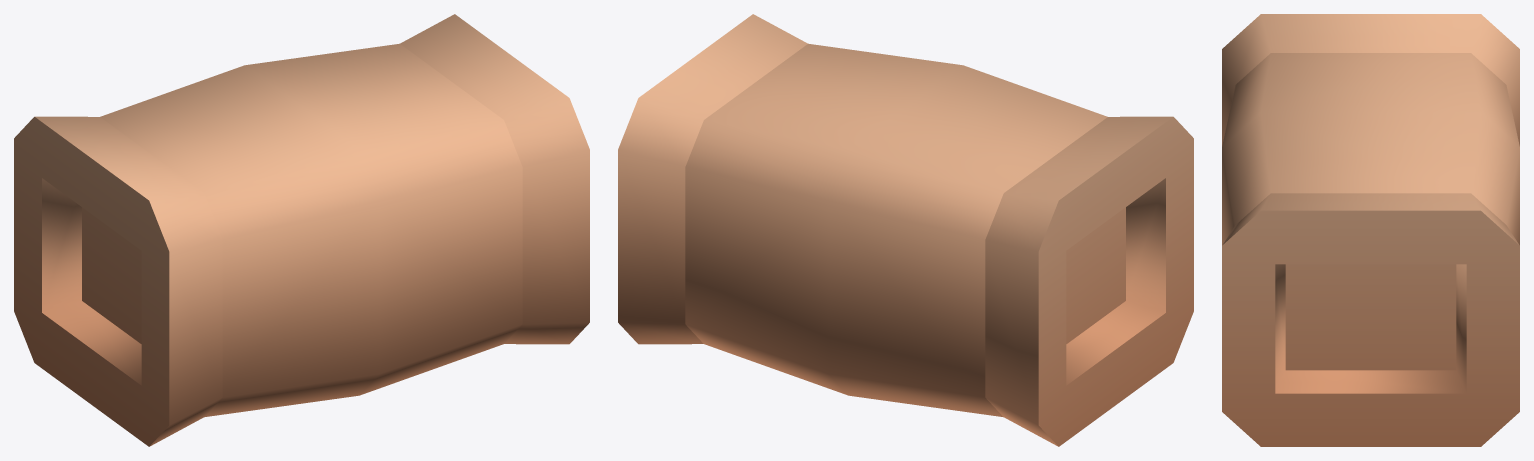
File: cc0-hay-bale-lod1.glb
The picture shows the model from 3 angles, left to right: view 1: azimuth 30°, elevation 25°; view 2: azimuth 150°, elevation 25°; view 3: azimuth 270°, elevation 25°; orthographic projection. The views are drawn at different scales.
Parts seen in each view (by area): view 1: part_0; view 2: part_0; view 3: part_0.
Part boxes in pixels (x1=…): part_0: x1=14, y1=14, x2=589, y2=446; part_0: x1=618, y1=14, x2=1193, y2=446; part_0: x1=1222, y1=14, x2=1519, y2=446.
Bounding box in the file's own units: 0.6066 × 0.3398 × 0.3883.
1 material, 1 textured.
